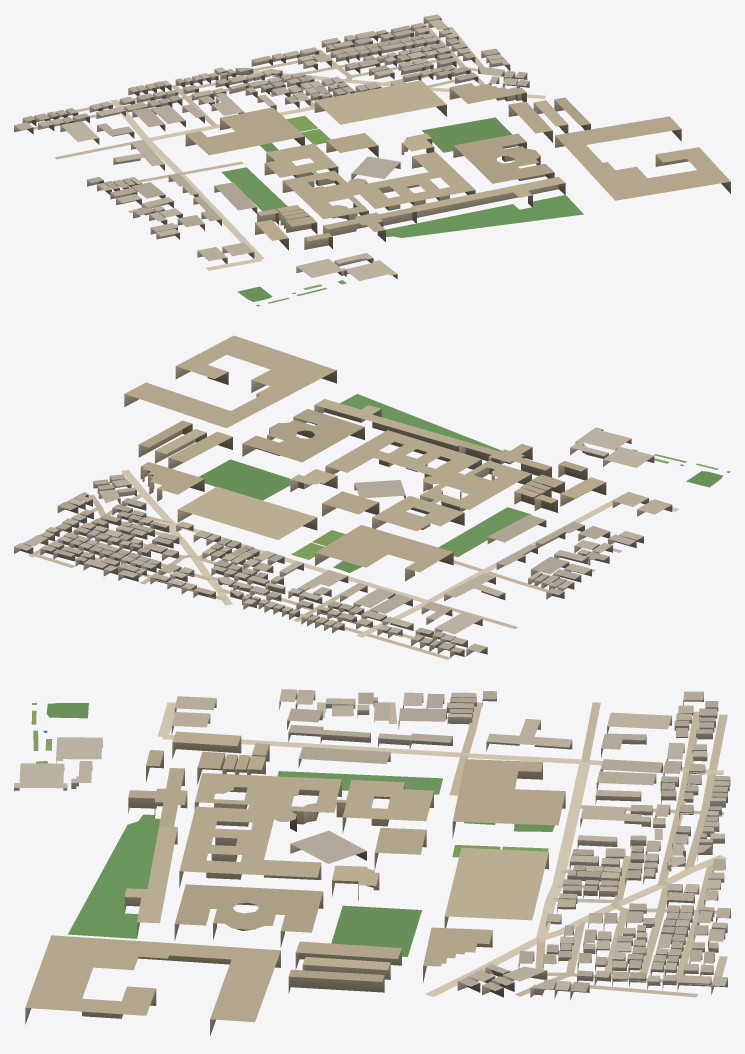
3 views of the same model, one above another, from view 1: azimuth 30°, elevation 25°; view 2: azimuth 150°, elevation 25°; view 3: azimuth 270°, elevation 25° (orthographic). The views are drawn at different scales.
Visible parts, largest first — view 1: building, ground; view 2: building, ground; view 3: building, ground.
Boxes of the visible parts, <box> form: building: <box>14,14,730,280</box>; ground: <box>33,24,583,306</box>; building: <box>14,335,672,657</box>; ground: <box>22,394,730,659</box>; building: <box>14,689,730,1035</box>; ground: <box>31,702,727,997</box>.
Bounding box in the file's own units: 581 × 14 × 517.
